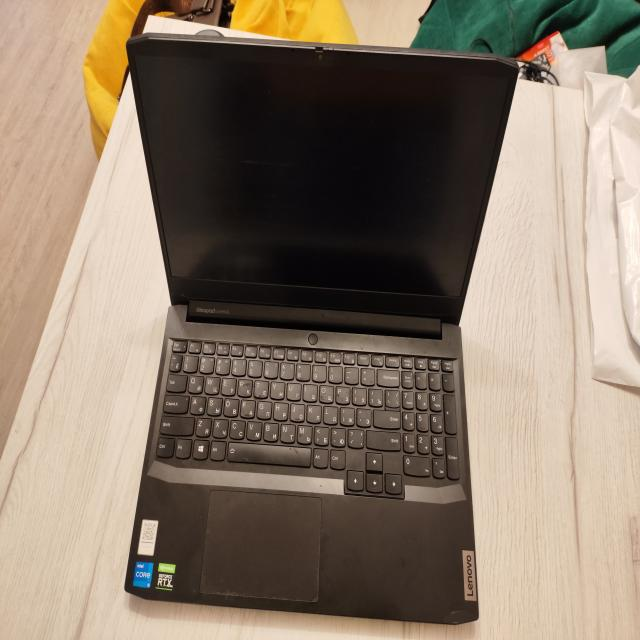scratch: (444, 595, 482, 631)
